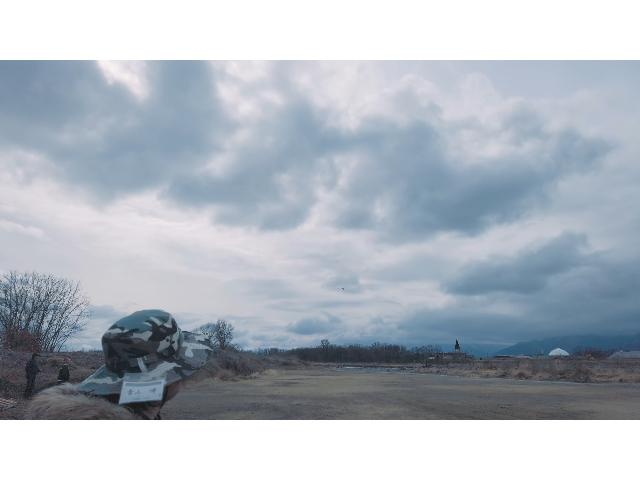Anti-Drone: (332, 284, 352, 294)
